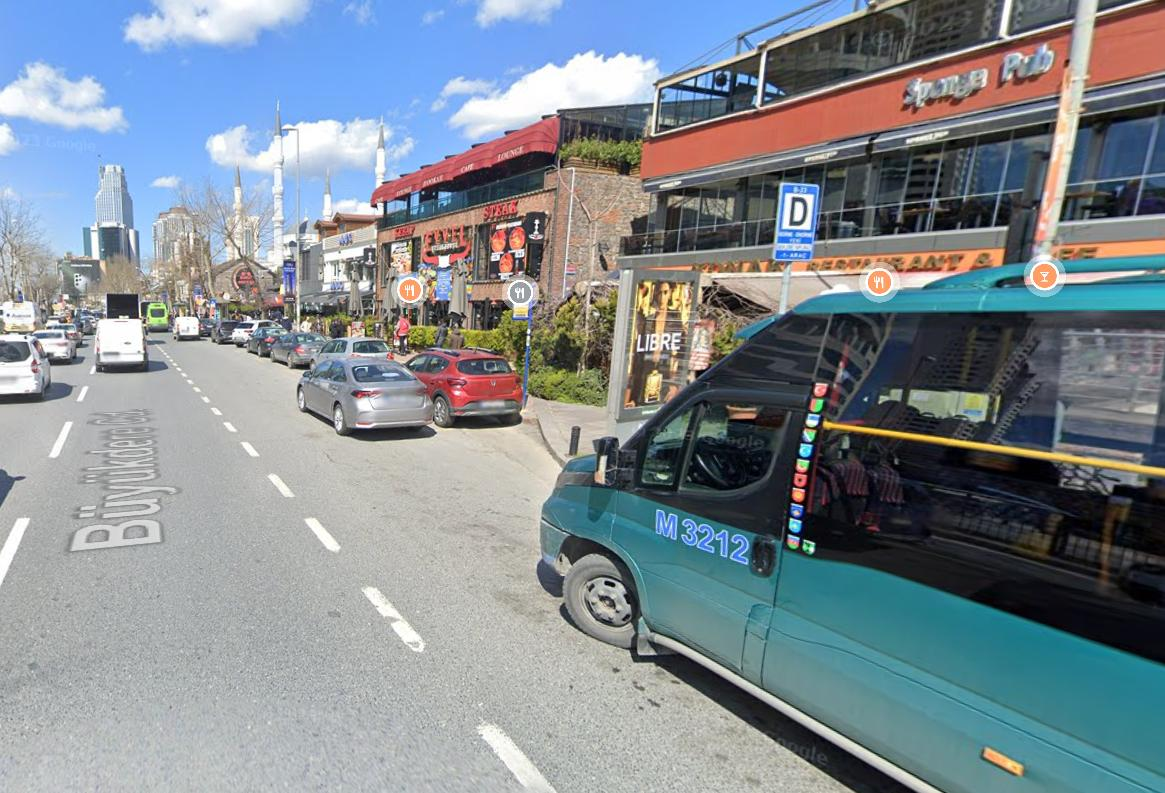station: (784, 191, 812, 229)
